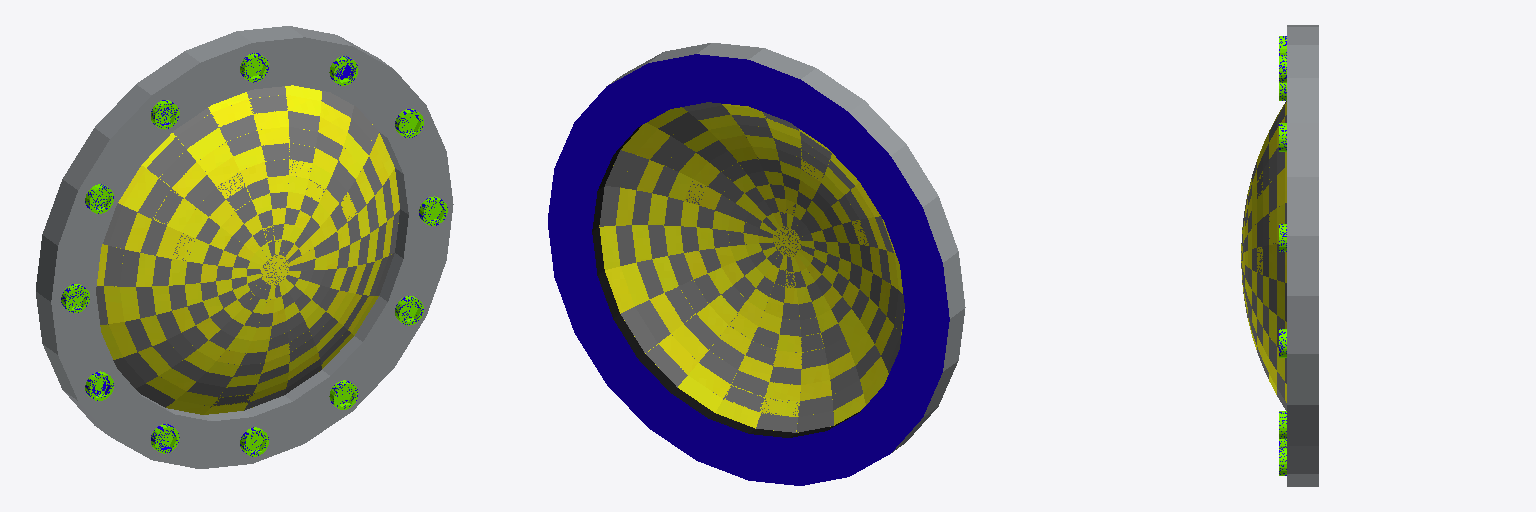
3 renders of one model, left to right at view 1: azimuth 30°, elevation 25°; view 2: azimuth 150°, elevation 25°; view 3: azimuth 270°, elevation 25°, orthographic.
Visible parts, largest first — view 1: Mesh13 Component_3_1 Model, Mesh4 Component_2_4 Component_3_1 Model, Mesh8 Component_2_8 Component_3_1 Model, Mesh11 Component_2_11 Component_3_1 Model, Mesh5 Component_2_5 Component_3_1 Model, Mesh7 Component_2_7 Component_3_1 Model, Mesh3 Component_2_3 Component_3_1 Model, Mesh1 Component_2_1 Component_3_1 Model, Mesh12 Component_2_12 Component_3_1 Model, Mesh9 Component_2_9 Component_3_1 Model, Mesh10 Component_2_10 Component_3_1 Model, Mesh2 Component_2_2 Component_3_1 Model (+1 smaller); view 2: Mesh13 Component_3_1 Model; view 3: Mesh13 Component_3_1 Model.
Boxes of the visible parts, <box> form: Mesh13 Component_3_1 Model: <box>36,26,453,468</box>; Mesh4 Component_2_4 Component_3_1 Model: <box>85,184,113,213</box>; Mesh8 Component_2_8 Component_3_1 Model: <box>240,427,268,456</box>; Mesh11 Component_2_11 Component_3_1 Model: <box>395,296,423,325</box>; Mesh5 Component_2_5 Component_3_1 Model: <box>240,53,268,82</box>; Mesh7 Component_2_7 Component_3_1 Model: <box>151,424,179,453</box>; Mesh3 Component_2_3 Component_3_1 Model: <box>419,196,447,225</box>; Mesh1 Component_2_1 Component_3_1 Model: <box>395,109,423,137</box>; Mesh12 Component_2_12 Component_3_1 Model: <box>329,56,358,85</box>; Mesh9 Component_2_9 Component_3_1 Model: <box>85,371,113,400</box>; Mesh10 Component_2_10 Component_3_1 Model: <box>61,284,89,312</box>; Mesh2 Component_2_2 Component_3_1 Model: <box>151,100,179,129</box>; Mesh13 Component_3_1 Model: <box>548,43,965,485</box>; Mesh13 Component_3_1 Model: <box>1241,25,1318,486</box>.
Bounding box in the file's own units: 2 × 2 × 0.3333.
Materials: 6 (1 with a texture image).